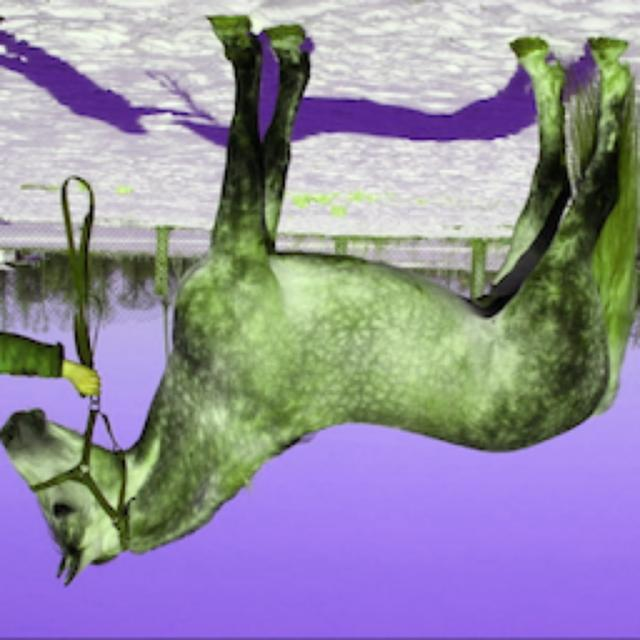Horse: (0, 10, 638, 592)
